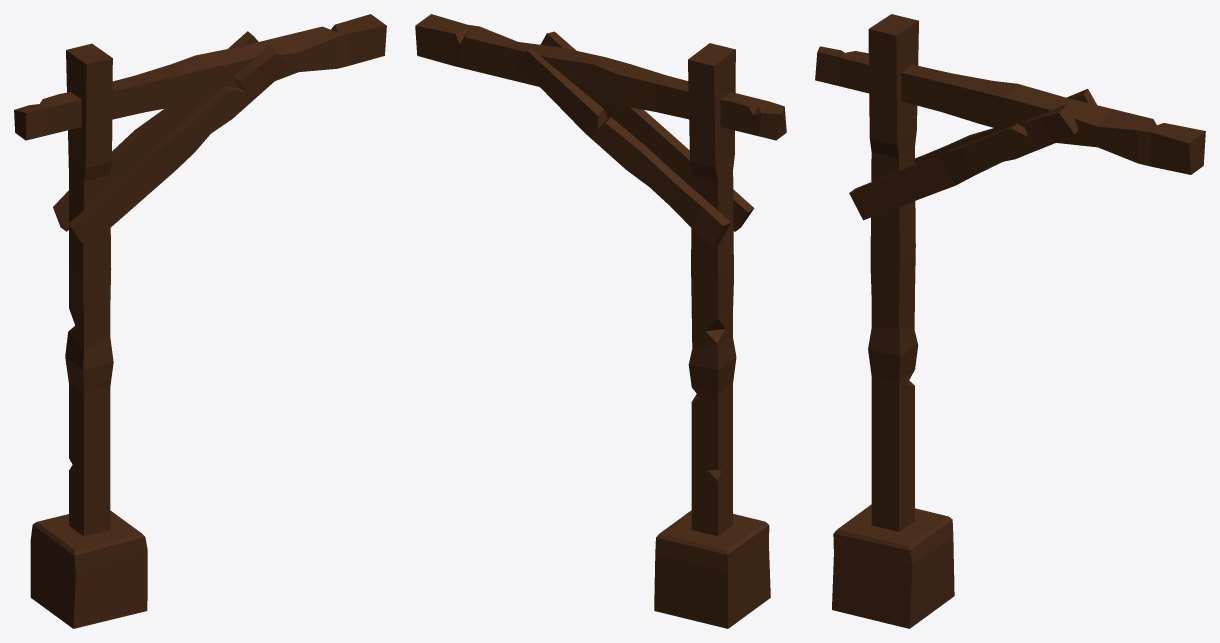
File: light_fixture1.fbx
The picture shows the model from 3 angles, left to right: view 1: azimuth 30°, elevation 25°; view 2: azimuth 150°, elevation 25°; view 3: azimuth 330°, elevation 25°; orthographic projection. The views are drawn at different scales.
Parts seen in each view (by area): view 1: lampione; view 2: lampione; view 3: lampione.
Boxes of the visible parts, x1,y1,x2,y2 form: lampione: (14,14,386,628); lampione: (415,14,786,628); lampione: (815,14,1205,628).
Bounding box in the file's own units: 264 × 383 × 54.19.
